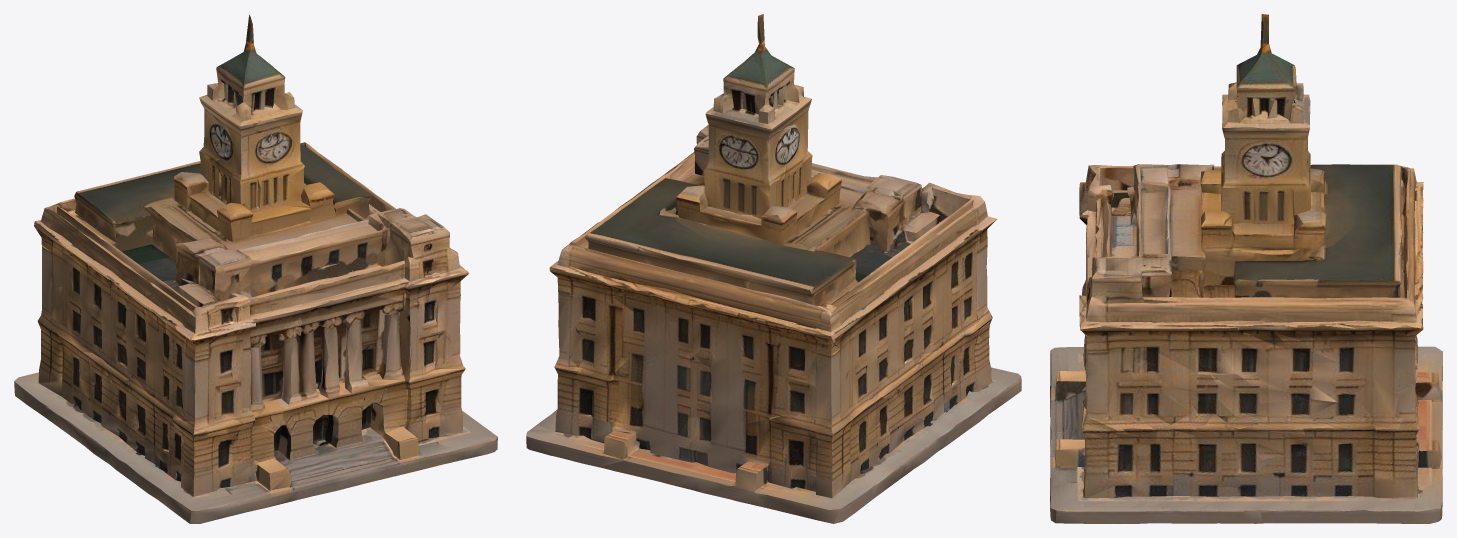
Rendered from shanghai-customs-house.glb.
3 views of the same model, side by side, from view 1: azimuth 30°, elevation 25°; view 2: azimuth 150°, elevation 25°; view 3: azimuth 270°, elevation 25° (orthographic). The views are drawn at different scales.
Visible parts, largest first — view 1: logan-textured.obj; view 2: logan-textured.obj; view 3: logan-textured.obj.
Boxes of the visible parts, <box> form: logan-textured.obj: <box>14,14,497,523</box>; logan-textured.obj: <box>526,14,1021,523</box>; logan-textured.obj: <box>1050,14,1442,523</box>.
Size of the model in its own units: 0.8108 by 1 by 0.8278.
1 material, 1 textured.
